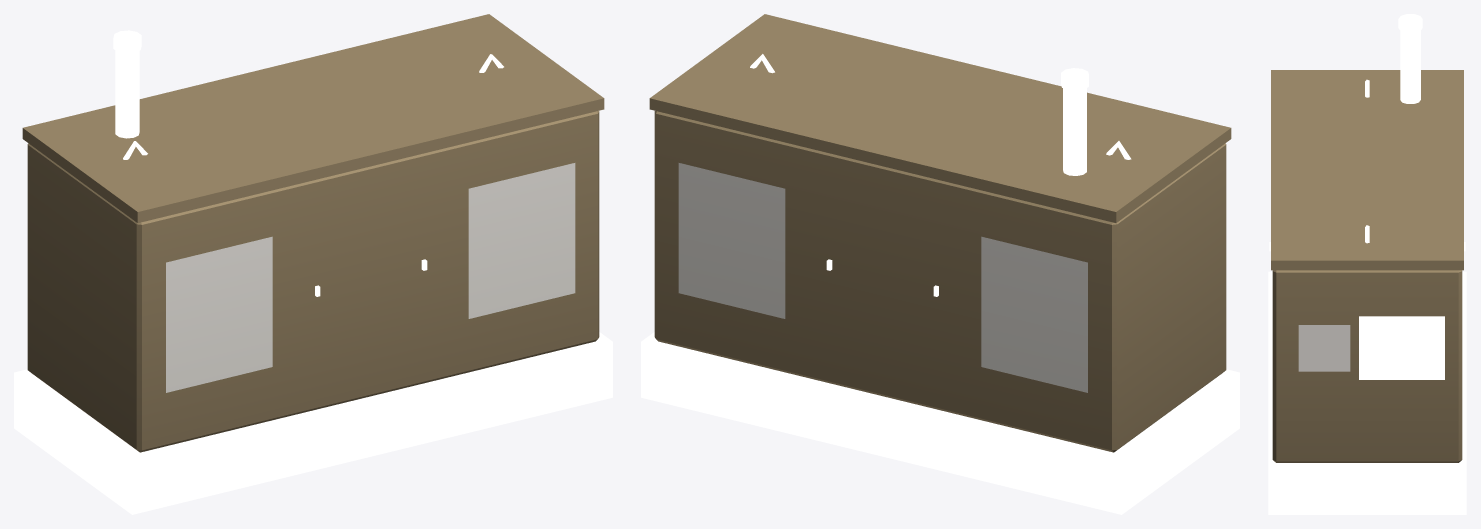
Rendered from generator_60kw_tan.glb.
3 views of the same model, side by side, from view 1: azimuth 30°, elevation 25°; view 2: azimuth 150°, elevation 25°; view 3: azimuth 270°, elevation 25° (orthographic). The views are drawn at different scales.
Parts seen in each view (by area): view 1: generator_60kw_tan_LOD0; view 2: generator_60kw_tan_LOD0; view 3: generator_60kw_tan_LOD0.
Part boxes in pixels (x1,y1,x2,y2): generator_60kw_tan_LOD0: (14,14,612,514); generator_60kw_tan_LOD0: (641,14,1239,514); generator_60kw_tan_LOD0: (1268,14,1466,514).
Size of what is drawn, in the model's own units: 2.7 by 2.13 by 1.15.
